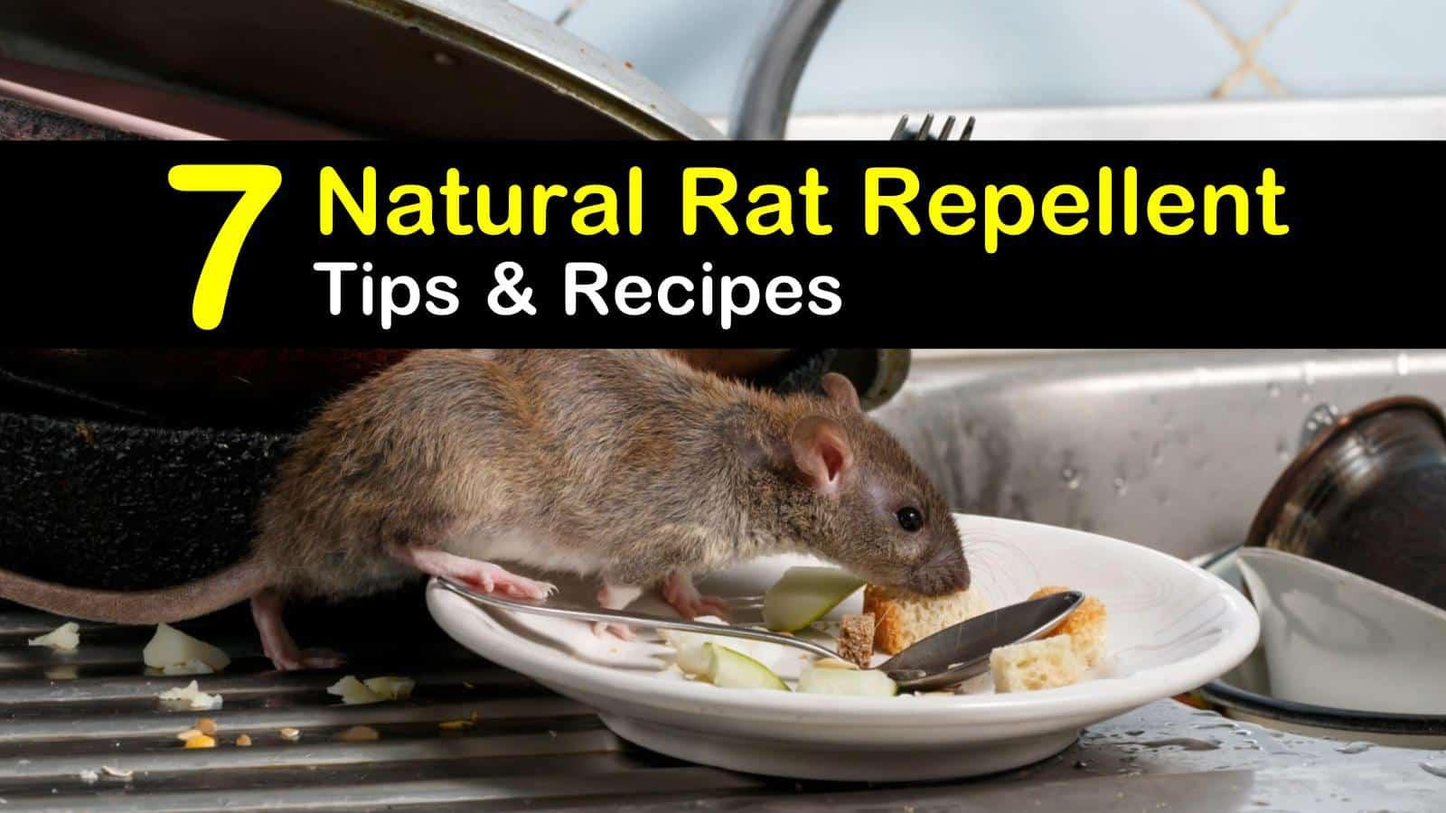rat: (3, 349, 975, 671)
